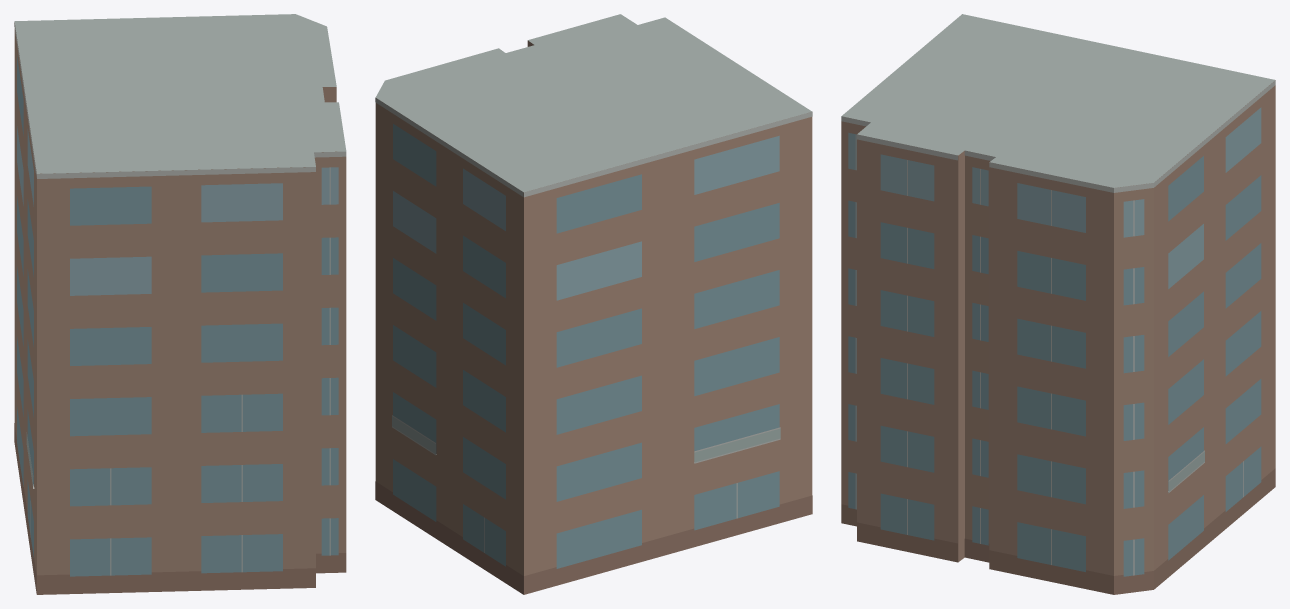
The model's file is survey-upis-32883509.glb.
3 renders of one model, left to right at view 1: azimuth 30°, elevation 25°; view 2: azimuth 150°, elevation 25°; view 3: azimuth 270°, elevation 25°, orthographic. The views are drawn at different scales.
Visible parts, largest first — view 1: survey-upis-32883509.tmp; view 2: survey-upis-32883509.tmp; view 3: survey-upis-32883509.tmp.
Boxes of the visible parts, x1,y1,x2,y2 form: survey-upis-32883509.tmp: [14, 14, 346, 594]; survey-upis-32883509.tmp: [375, 14, 812, 594]; survey-upis-32883509.tmp: [841, 14, 1275, 594].
Size of the model in its own units: 18.07 by 19.7 by 19.06.
